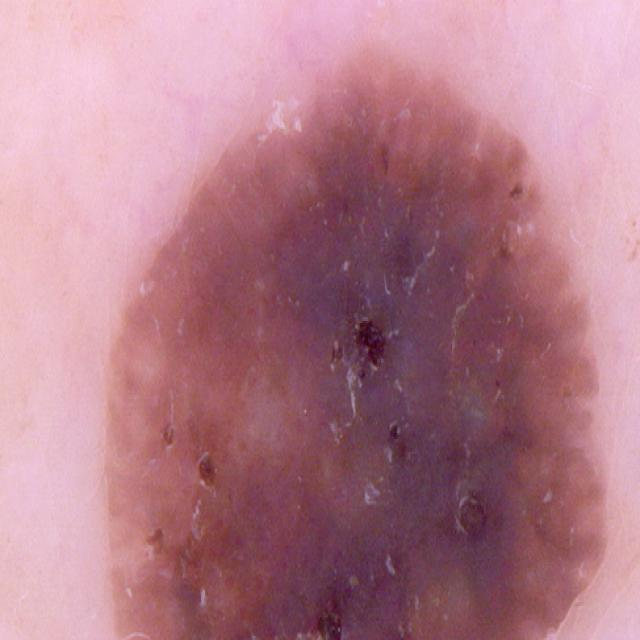Keratosis: (93, 51, 623, 640)
